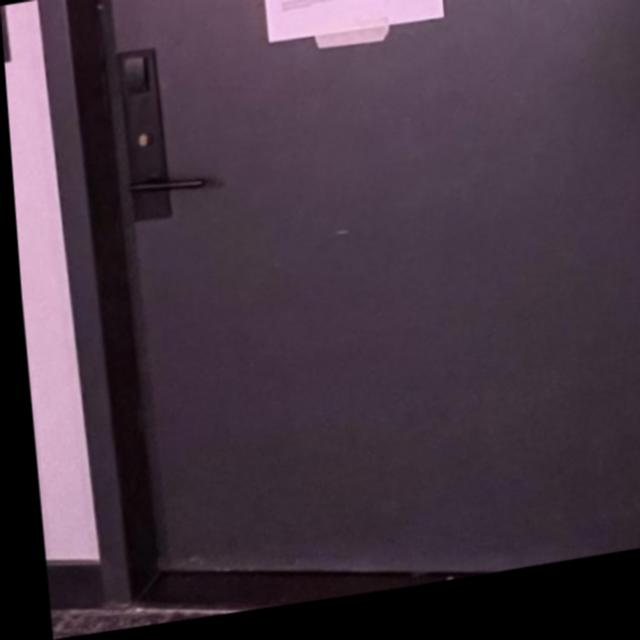door_handle: (113, 164, 225, 221)
